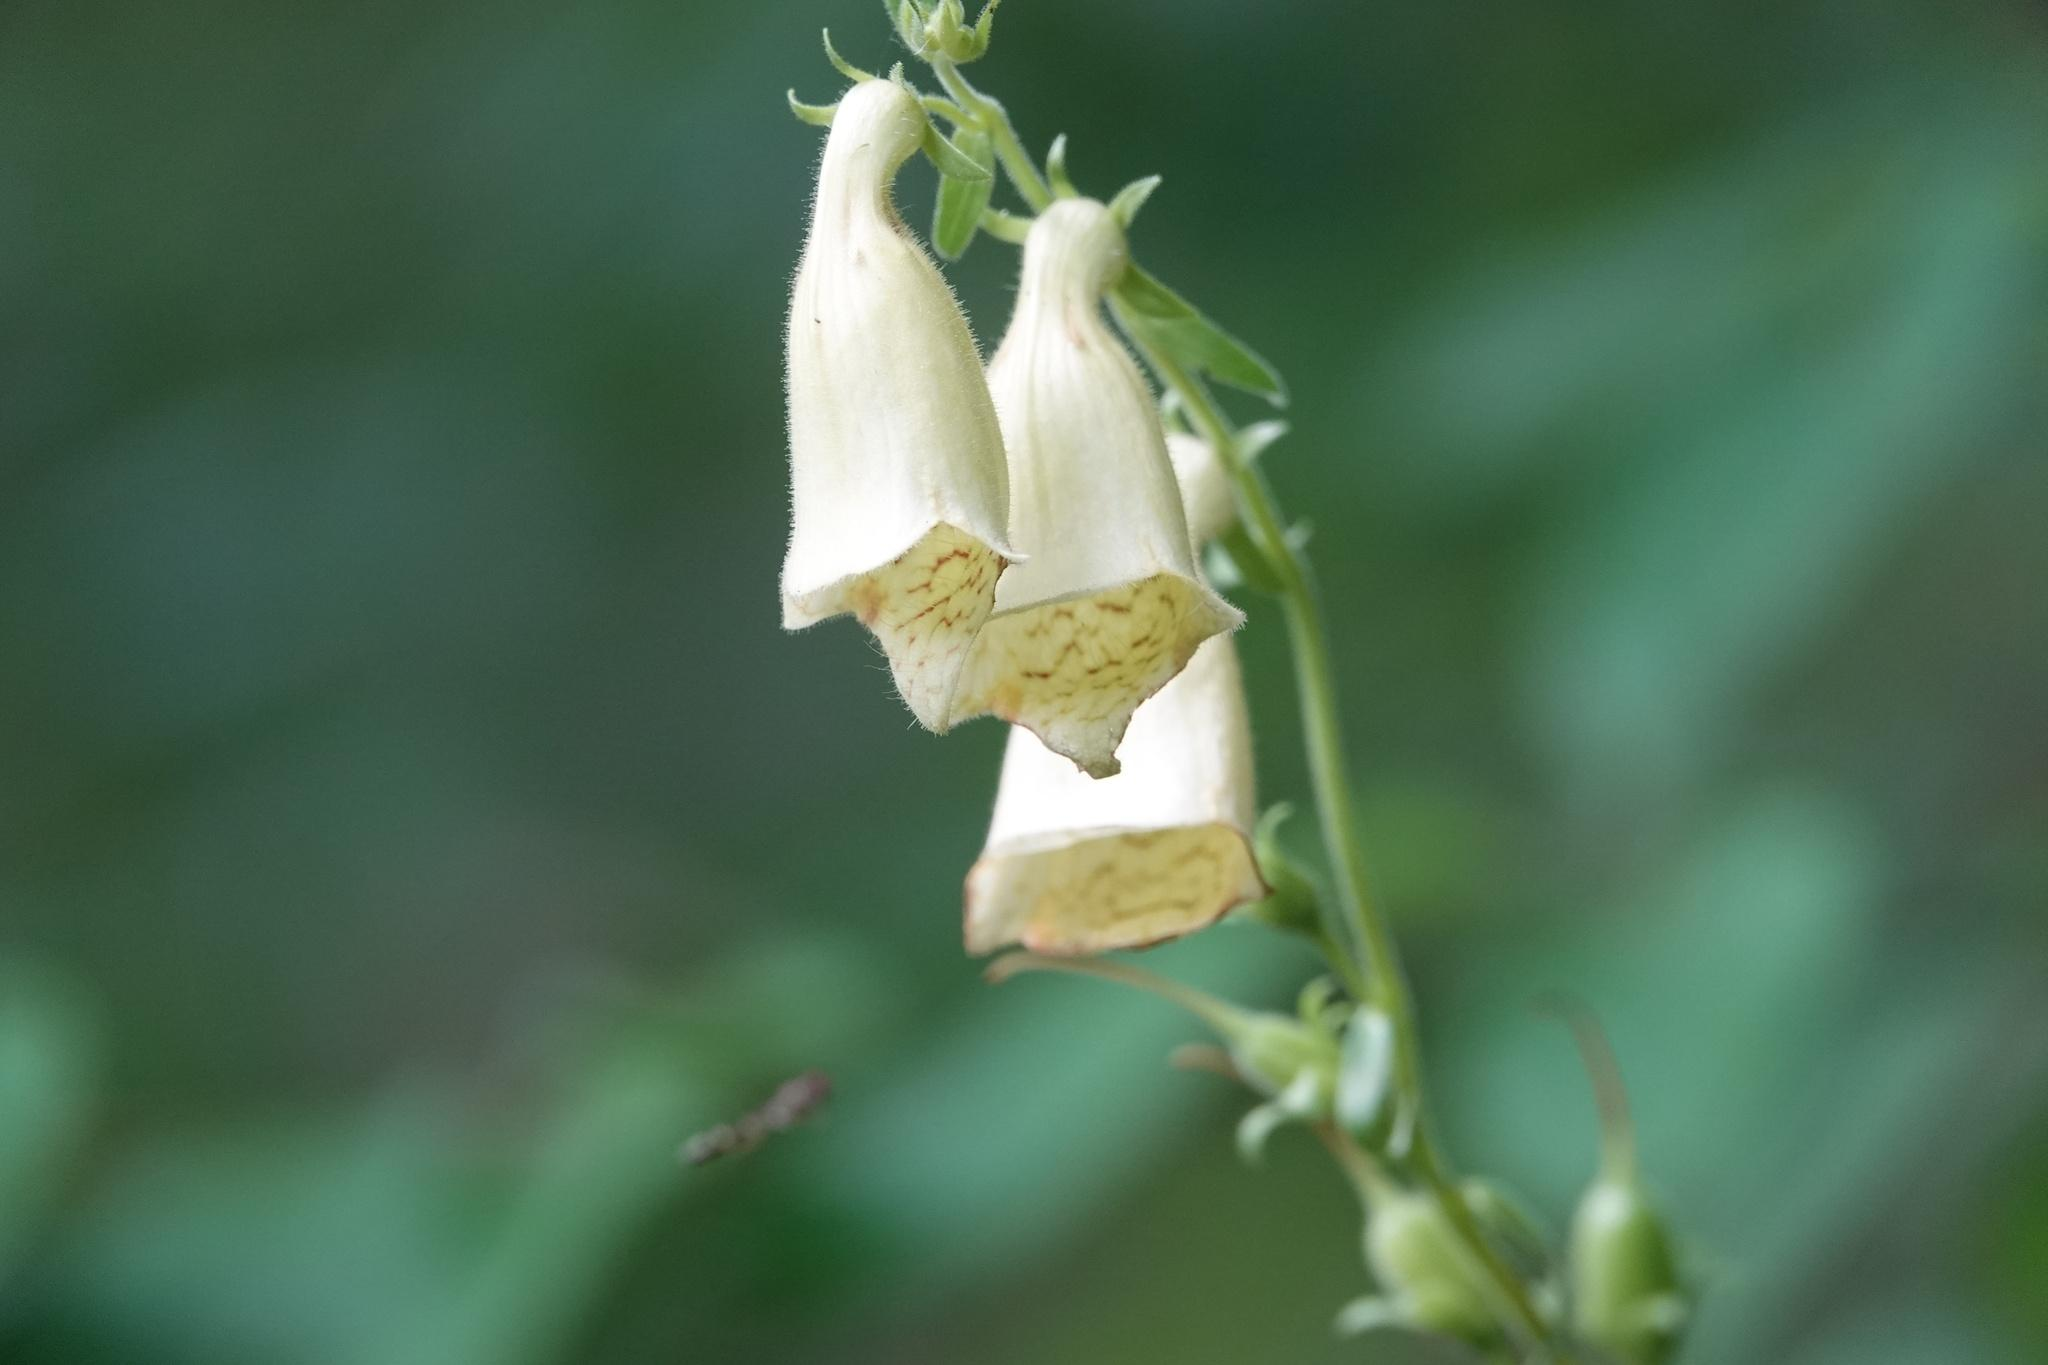Digitalis L: (781, 12, 1443, 1193)
